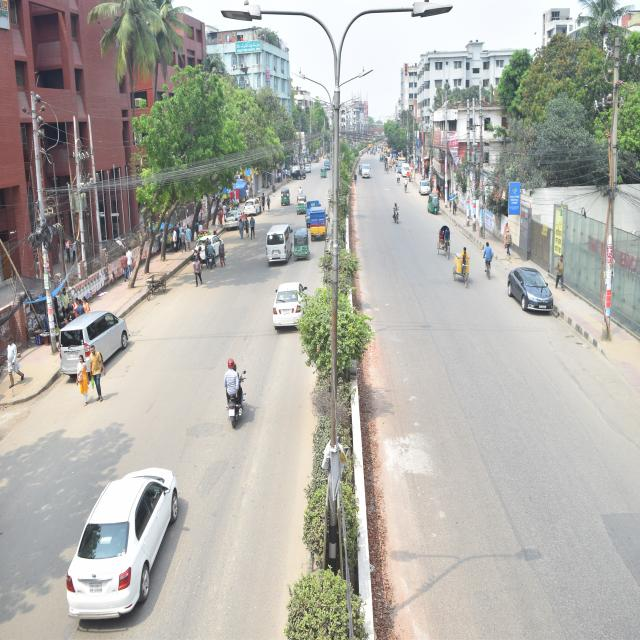car: (25, 453, 243, 640), (57, 286, 150, 380), (508, 247, 568, 315), (266, 274, 326, 336), (185, 226, 238, 271), (217, 192, 252, 238), (244, 185, 275, 222), (358, 157, 378, 188), (419, 178, 441, 206), (398, 158, 421, 183), (323, 153, 335, 177), (302, 159, 315, 179)
microbus: (258, 214, 294, 264)
motorbike: (210, 308, 260, 438), (200, 233, 219, 276), (393, 193, 410, 240), (296, 180, 305, 209)
pickup-van: (300, 198, 337, 240), (304, 194, 327, 229), (286, 156, 306, 187)
